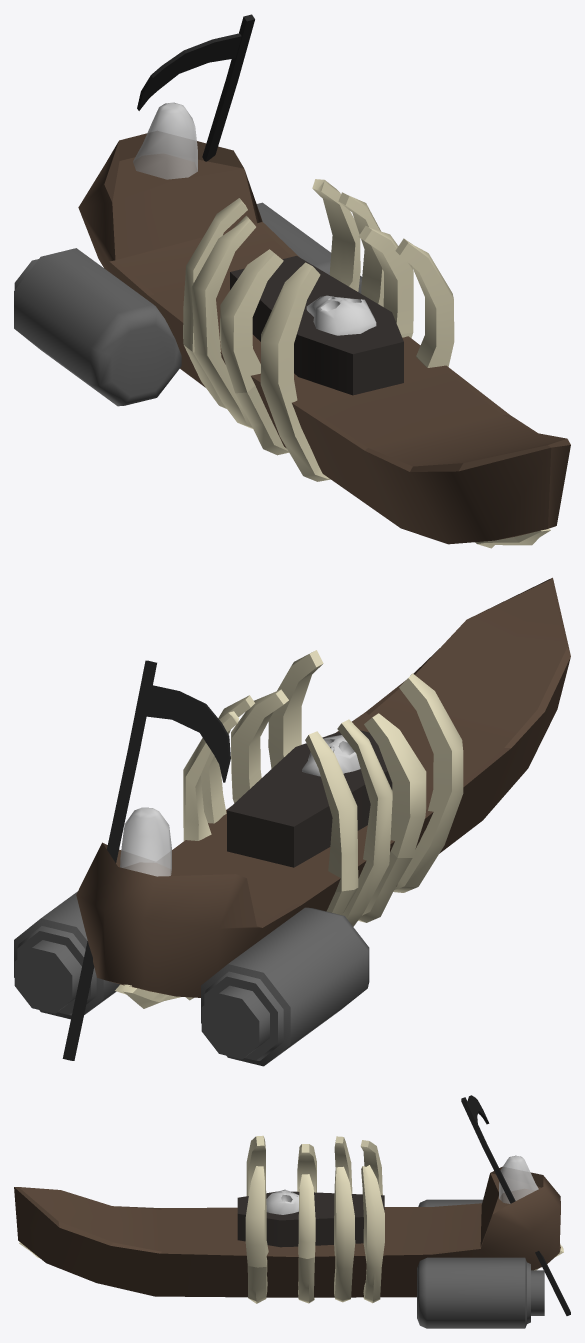
The model's file is GondolaFinal.fbx.
3 views of the same model, one above another, from view 1: azimuth 30°, elevation 25°; view 2: azimuth 150°, elevation 25°; view 3: azimuth 270°, elevation 25° (orthographic). The views are drawn at different scales.
Parts seen in each view (by area): view 1: polySurface29, polySurface32, polySurface19, polySurface17, polySurface30, polySurface18, pCube74; view 2: polySurface29, polySurface32, polySurface19, polySurface17, polySurface30, polySurface18, pCube74; view 3: polySurface29, polySurface32, polySurface19, polySurface17, polySurface30, polySurface18, pCube74.
Part boxes in pixels (x1,y1,x2,y2): polySurface29: [78, 133, 570, 544]; polySurface32: [183, 179, 550, 548]; polySurface19: [14, 202, 362, 406]; polySurface17: [230, 256, 403, 395]; polySurface30: [137, 14, 254, 161]; polySurface18: [133, 102, 197, 179]; pCube74: [306, 295, 376, 335]; polySurface29: [76, 577, 570, 997]; polySurface32: [115, 650, 463, 1008]; polySurface19: [14, 891, 369, 1066]; polySurface17: [227, 730, 392, 867]; polySurface30: [62, 660, 230, 1060]; polySurface18: [120, 807, 171, 876]; pCube74: [302, 735, 360, 776]; polySurface29: [14, 1166, 560, 1297]; polySurface32: [19, 1135, 563, 1303]; polySurface19: [417, 1199, 544, 1328]; polySurface17: [237, 1191, 384, 1247]; polySurface30: [461, 1095, 570, 1315]; polySurface18: [499, 1155, 538, 1203]; pCube74: [266, 1189, 298, 1214].
Bounding box in the file's own units: 289 × 339 × 790.
